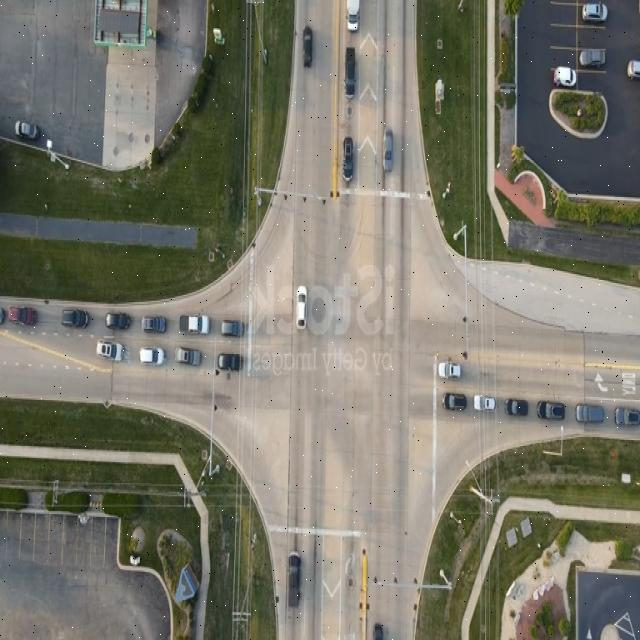car: (286, 553, 299, 607), (344, 48, 356, 100), (9, 306, 37, 327), (61, 310, 89, 330), (576, 404, 604, 424), (538, 403, 566, 423), (96, 342, 122, 362), (615, 408, 640, 428), (554, 66, 576, 88), (582, 2, 606, 22), (218, 354, 242, 374), (105, 313, 129, 332), (506, 398, 530, 417), (16, 122, 38, 142), (344, 139, 354, 183), (346, 0, 360, 31), (139, 348, 163, 366), (176, 349, 200, 367), (142, 316, 166, 334), (383, 130, 393, 172), (295, 286, 305, 328), (304, 30, 314, 70), (221, 320, 243, 338), (445, 393, 467, 411), (439, 362, 462, 379), (475, 396, 496, 412)
pickup-truck: (580, 49, 608, 71)
